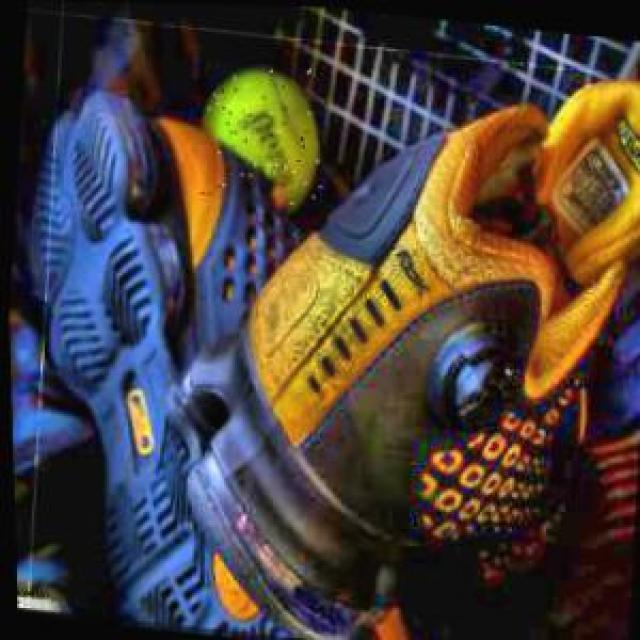tennis-ball: (196, 56, 337, 208)
